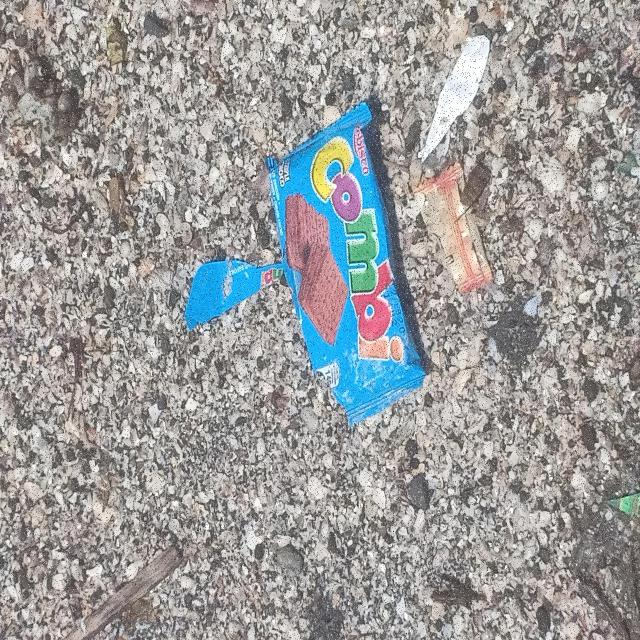plastic_waste: (185, 111, 428, 431), (409, 162, 496, 297)
